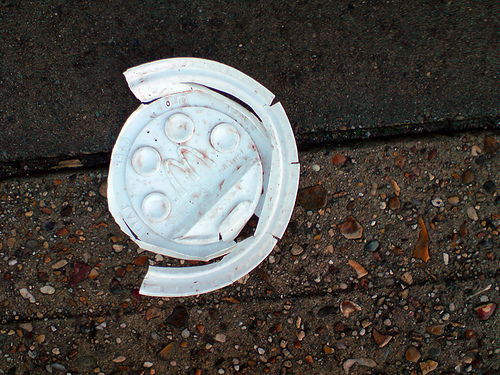litter: (107, 55, 301, 299)
